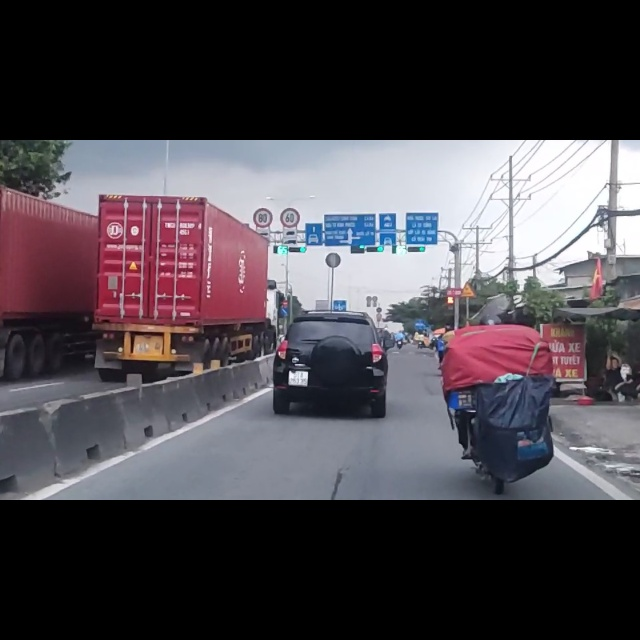bien_nguy_hiem: (280, 119, 301, 156), (253, 121, 273, 156), (460, 251, 477, 281), (281, 297, 289, 313), (281, 283, 289, 295)
